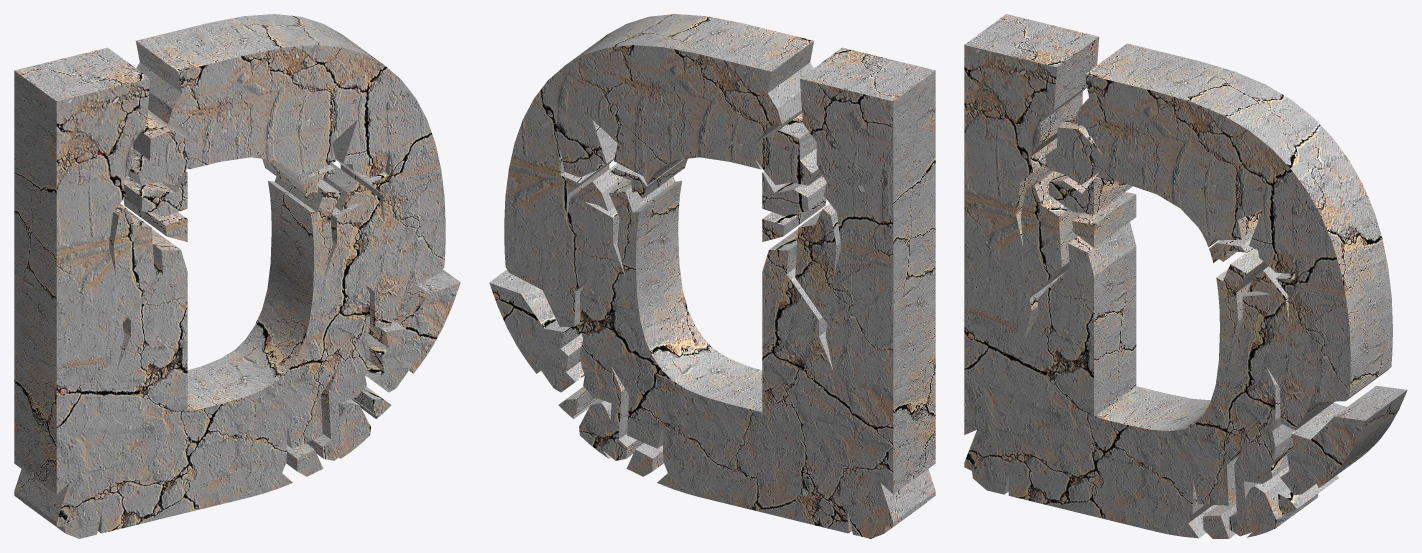
The picture shows the model from 3 angles, left to right: view 1: azimuth 30°, elevation 25°; view 2: azimuth 150°, elevation 25°; view 3: azimuth 330°, elevation 25°; orthographic projection.
Visible parts, largest first — view 1: D; view 2: D; view 3: D.
Boxes of the visible parts, <box> form: D: <box>14,14,460,538</box>; D: <box>489,14,935,538</box>; D: <box>964,14,1407,538</box>.
Size of the model in its own units: 82.44 by 86.36 by 15.
Materials: 1 (1 with a texture image).
